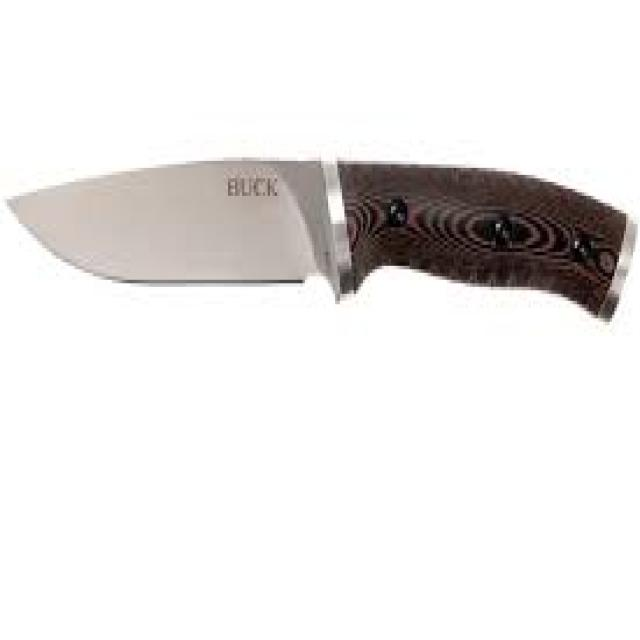knife: (4, 143, 640, 367)
